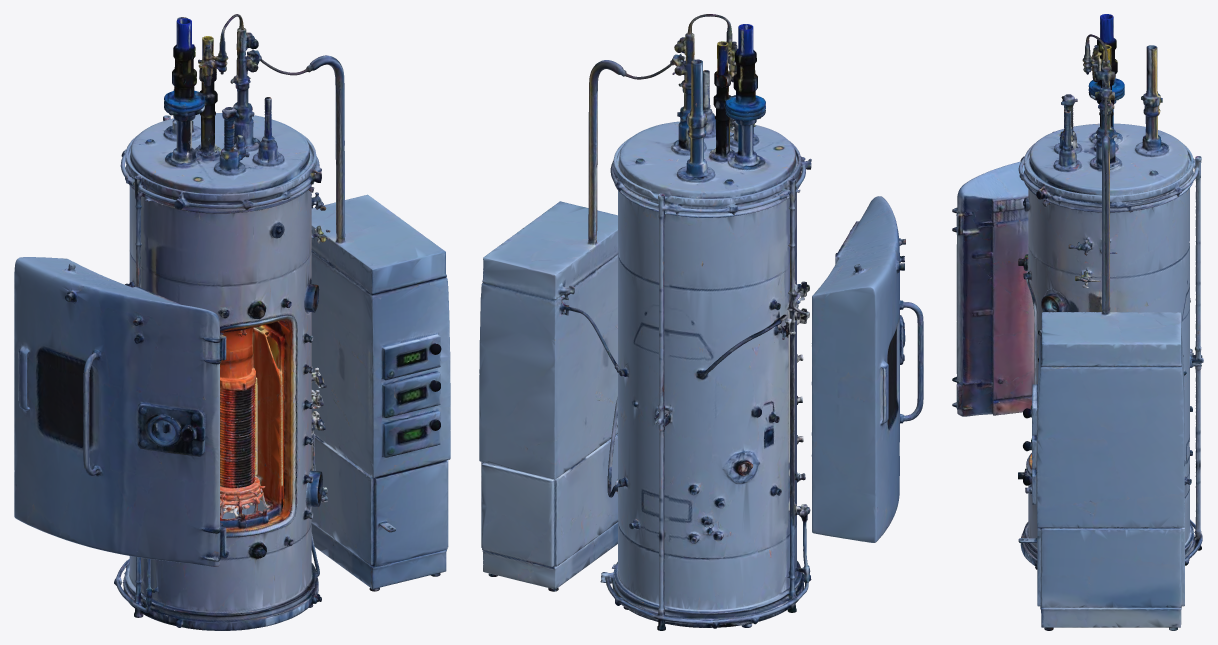
Rendered from cryo_implanter.glb.
3 renders of one model, left to right at view 1: azimuth 30°, elevation 25°; view 2: azimuth 150°, elevation 25°; view 3: azimuth 270°, elevation 25°, orthographic. The views are drawn at different scales.
Size of the model in its own units: 1.3 by 1.9 by 0.8369.
1 material, 1 textured.
